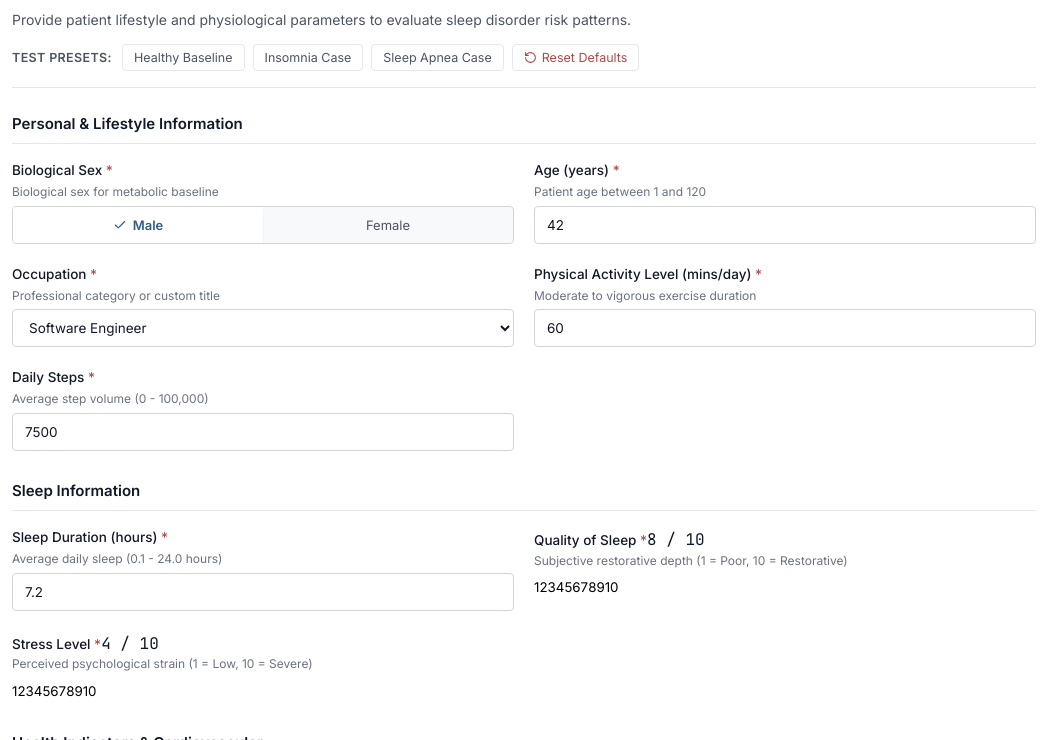
Test: PredictionForm Component Tests › validates physiological bounds for age (1-120)
Replace the text in the number field labelled "Age (years) *" with "150" at (785, 225), box [534,206,1036,244]
(page scrolled)
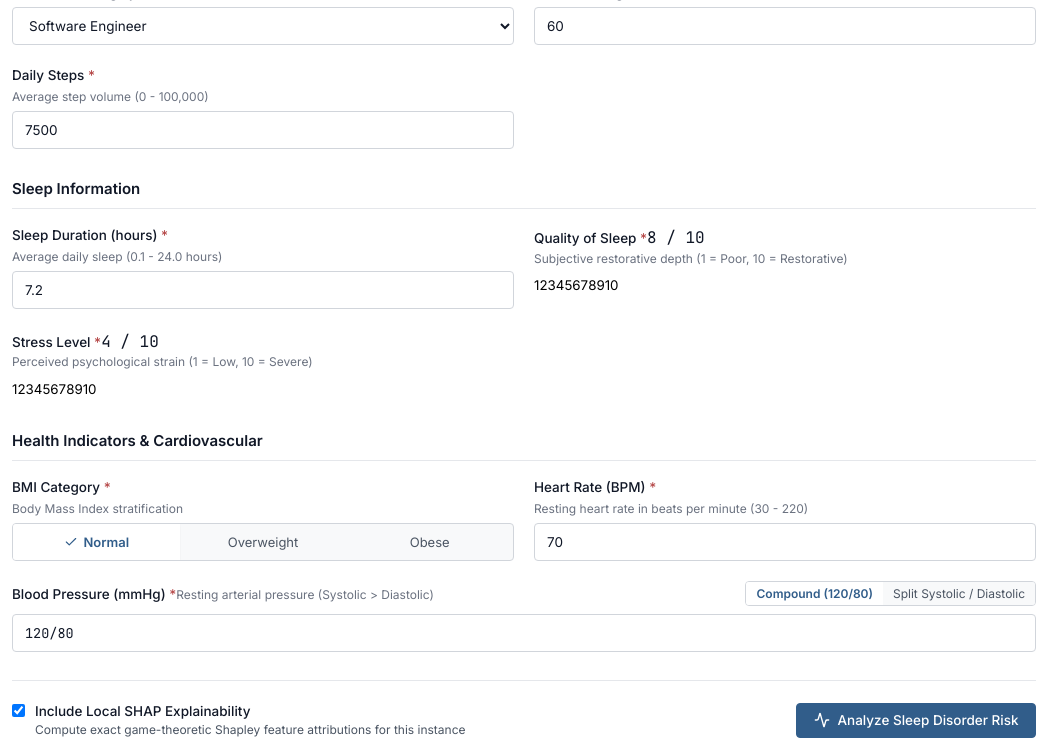
Click the button "Analyze Sleep Disorder Risk" at (916, 720), box [796,703,1036,738]
(page scrolled)
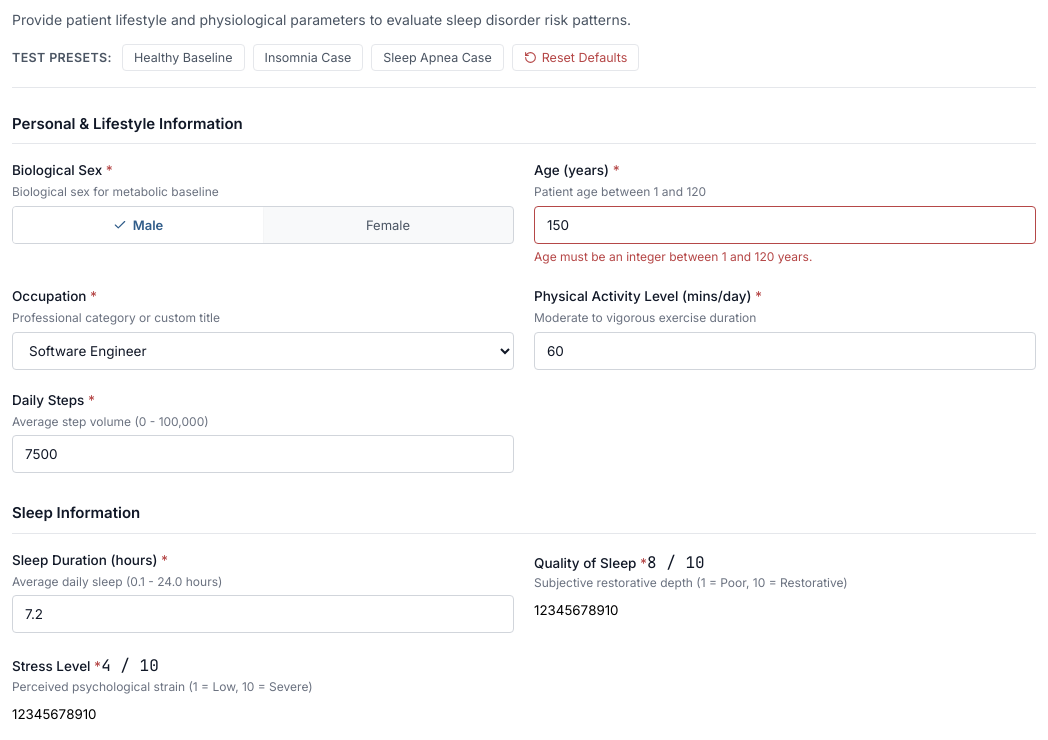
Now the text "Age must be an integer between 1 and 120 years." is shown, box [534,249,812,264]
